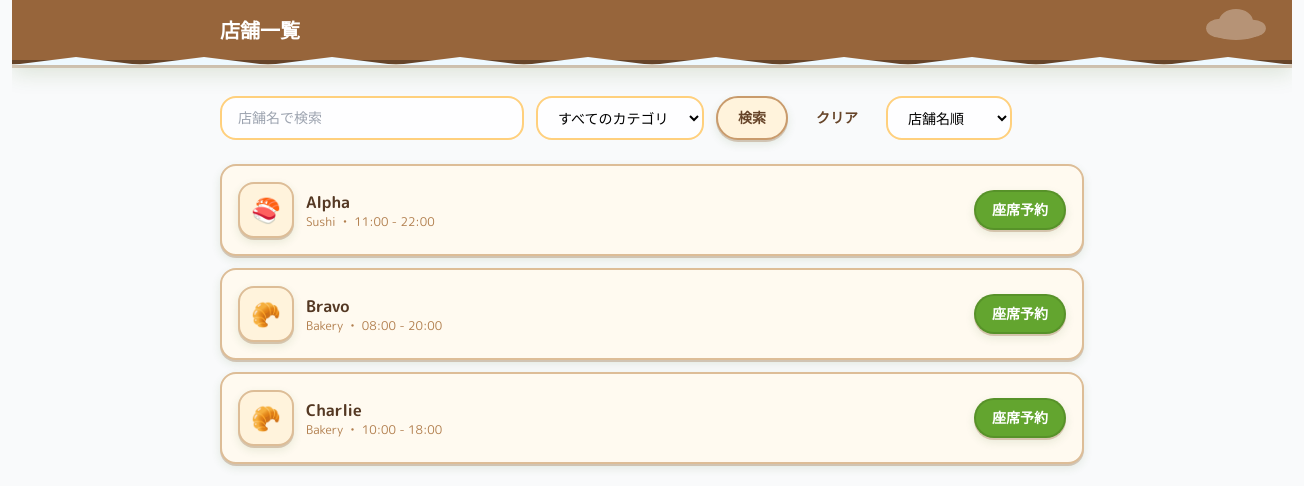
Test: StoresPage 検索・絞り込み・ソート › 検索ボタンを押すと店舗名の部分一致で絞り込まれる
Expected: the text "Charlie" is shown, x1=306 y1=399 x2=362 y2=421
Type "al" into the field with placeholder "店舗名で検索" at (372, 118), box x1=220 y1=96 x2=524 y2=140
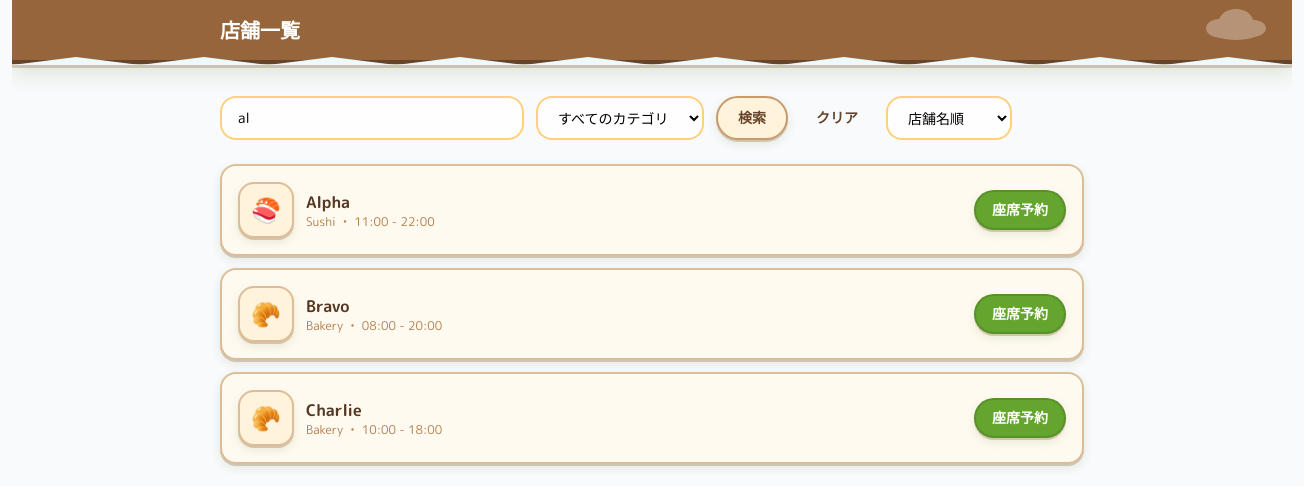
Click the button "検索" at (752, 118), box x1=716 y1=96 x2=788 y2=140
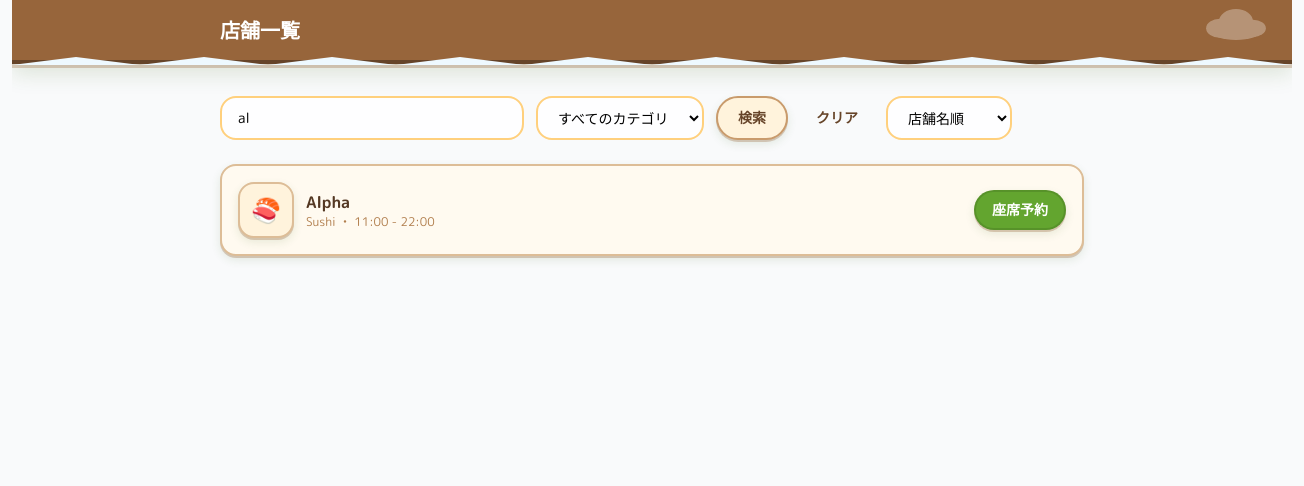
Expected: the text "Alpha" is shown, x1=306 y1=191 x2=350 y2=213
Now the button "Charlie" is gone
Now the button "Bravo" is gone
